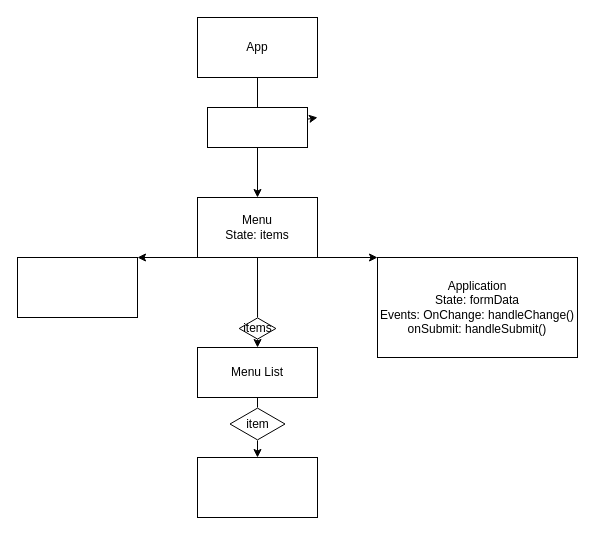
The diagram is 595 pixels wide and 535 high, and some of its shapes have lost their labels. The shapes that lost their labels are listed below. From the top down, each one's centre as x and y in pixels, then its label:
the point at 257,127: Header
the point at 77,287: Online Order
the point at 257,487: Menu Card
